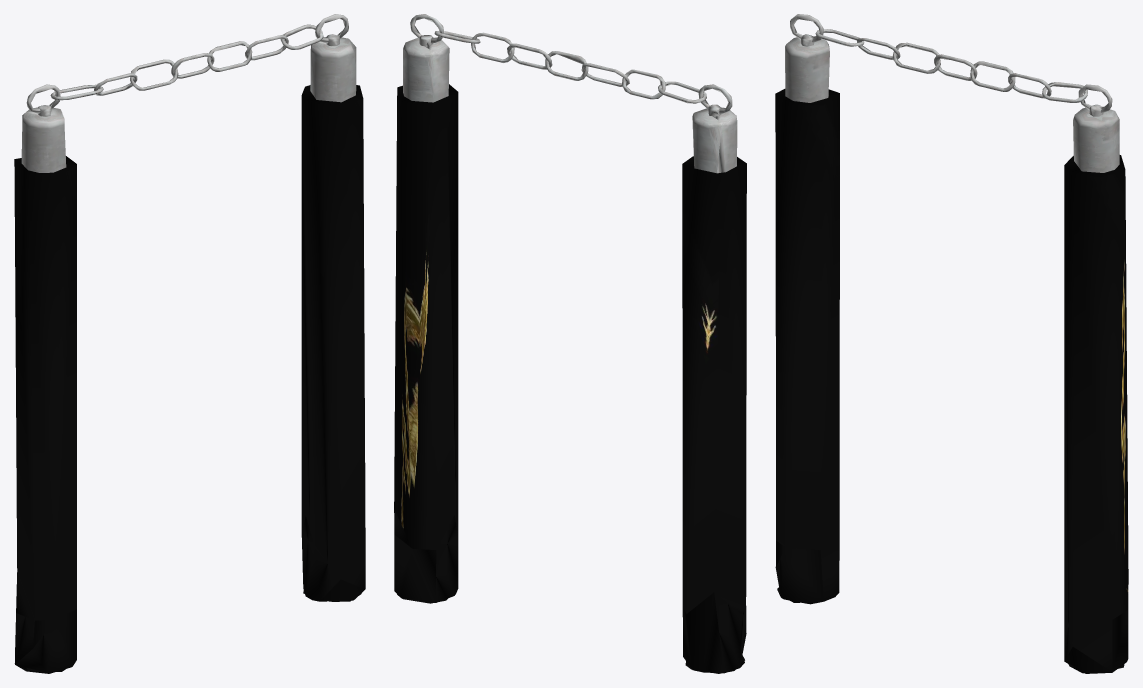
File: nunchaku_lo.glb
The picture shows the model from 3 angles, left to right: view 1: azimuth 30°, elevation 25°; view 2: azimuth 150°, elevation 25°; view 3: azimuth 330°, elevation 25°; orthographic projection.
Parts seen in each view (by area): view 1: Object_10_Metal (1)_0, Object_19_Metal (1)_0, Object_11_Metal_0, Object_18_Metal_0; view 2: Object_19_Metal (1)_0, Object_10_Metal (1)_0, Object_11_Metal_0, Object_18_Metal_0; view 3: Object_19_Metal (1)_0, Object_10_Metal (1)_0, Object_11_Metal_0, Object_18_Metal_0.
Boxes of the visible parts, x1,y1,x2,y2 form: Object_10_Metal (1)_0: (301,85,365,601); Object_19_Metal (1)_0: (14,156,76,673); Object_11_Metal_0: (310,37,356,102); Object_18_Metal_0: (21,107,66,172); Object_19_Metal (1)_0: (682,156,746,673); Object_10_Metal (1)_0: (394,84,458,602); Object_11_Metal_0: (403,37,449,102); Object_18_Metal_0: (692,107,737,173); Object_19_Metal (1)_0: (775,89,839,604); Object_10_Metal (1)_0: (1064,155,1128,673); Object_11_Metal_0: (1073,107,1119,172); Object_18_Metal_0: (785,37,829,102).
Bounding box in the file's own units: 0.203 × 0.325 × 0.0329.
Materials: 4 (3 with a texture image).
